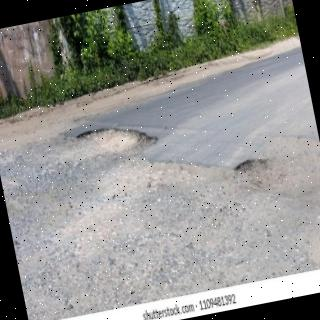pothole: (232, 136, 320, 197), (75, 128, 157, 146)
